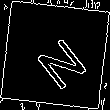N_NW: (24, 22, 86, 88)
